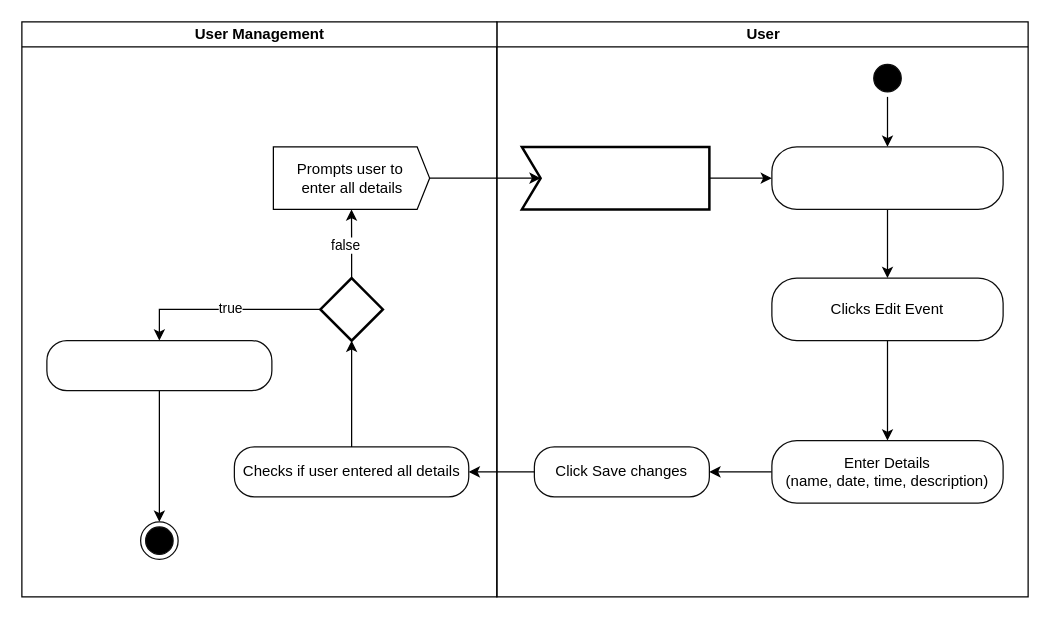
The diagram is 1050 pixels wide and 619 high, and some of its shapes have lost their labels. The shapes that lost their labels are listed below. From the top down, each one's box as (x1, y1, x2, y2) in pixels, then its label:
(520, 145, 710, 210): Get prompt from to enter details
(771, 146, 1003, 209): Select Event
(46, 339, 272, 391): Updates event in the database
